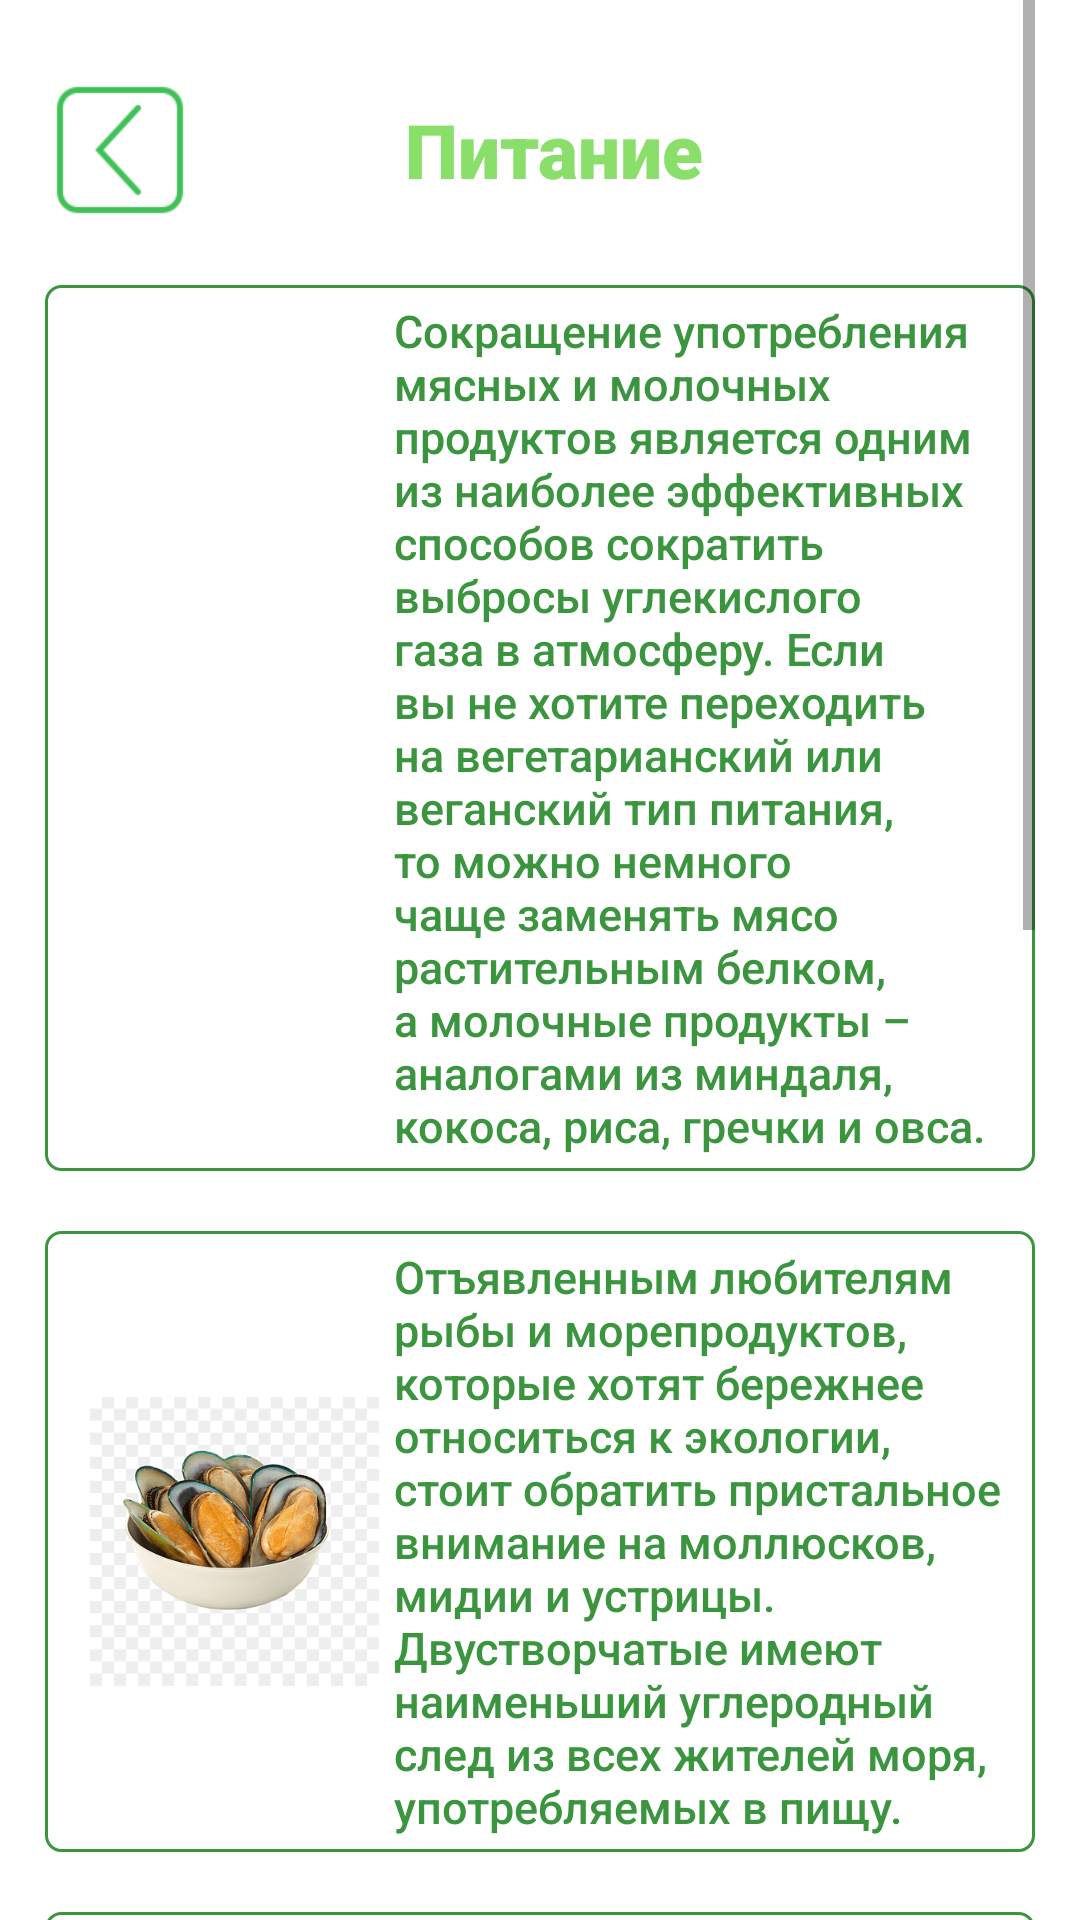

Named icons in this screenshot (1080*1920) and their bounding boxes, (x1, y1, x2, y2):
back: (56, 86, 184, 214)
sea food: (123, 1450, 329, 1610)
